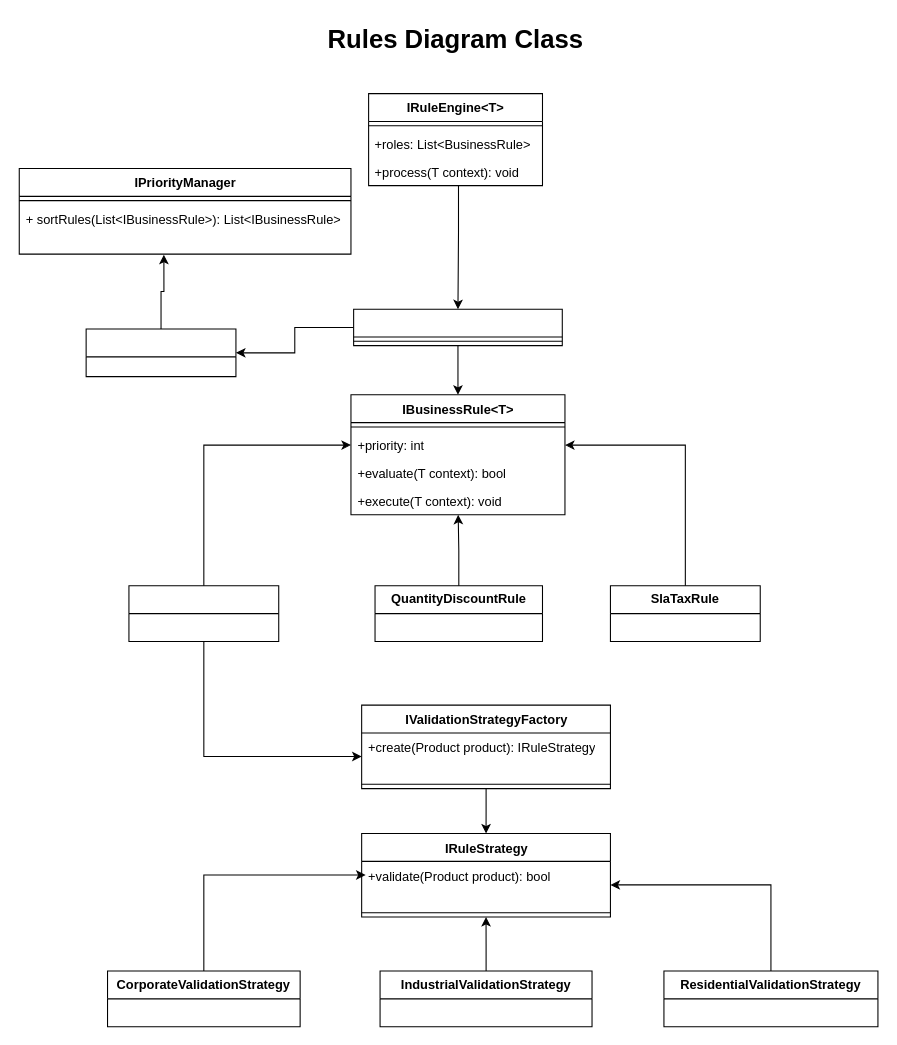
The diagram is 897 pixels wide and 1045 high, and some of its shapes have lost their labels. The shapes that lost their labels are listed below. From the top down, each one's centre as x and y in pixels, then its label:
(x=457, y=327): RuleEngine<Rx<CartModel>>
(x=160, y=352): PriorityManager
(x=203, y=613): ValidationRule
